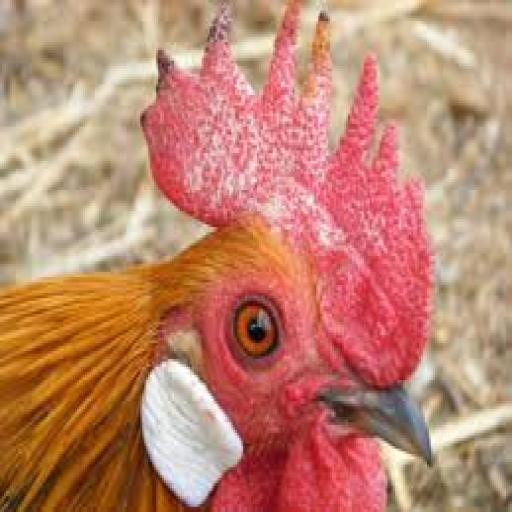disease: (135, 4, 396, 281)
